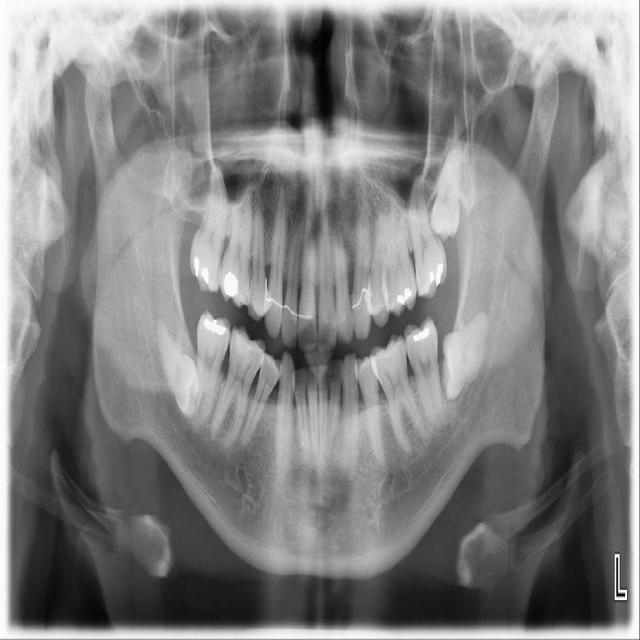Filling: (192, 251, 214, 285), (406, 319, 434, 345), (423, 262, 447, 289), (200, 318, 228, 338), (391, 287, 413, 312), (222, 271, 240, 300)
impacted tooth: (153, 318, 204, 417), (442, 311, 485, 399), (432, 143, 468, 238)
